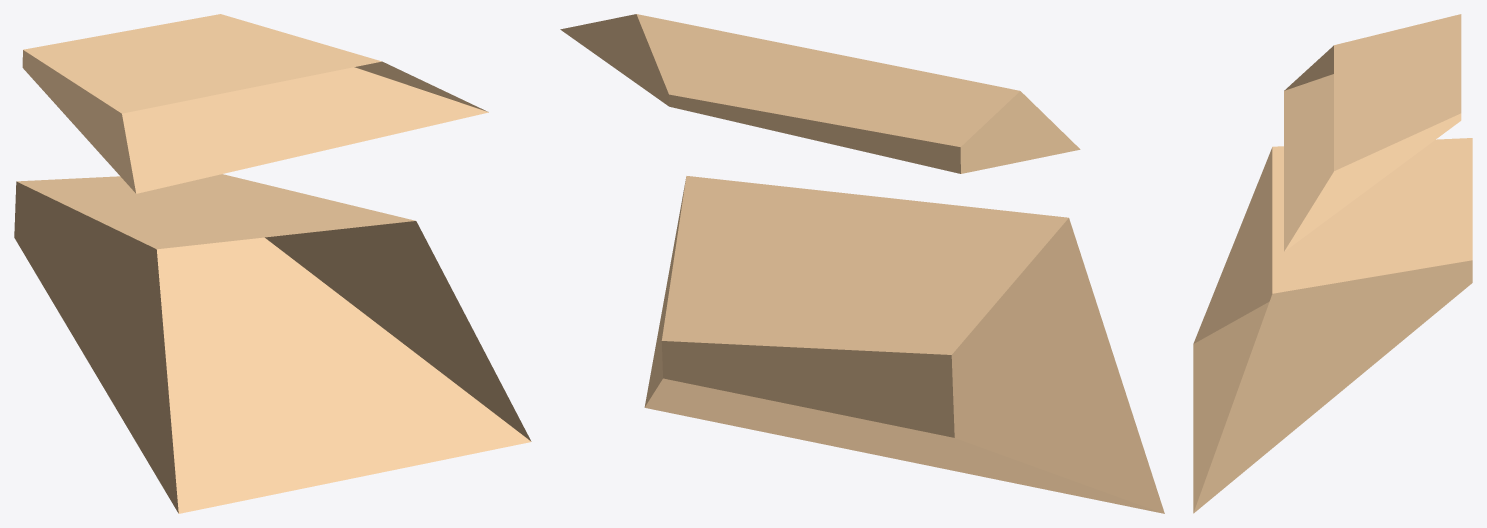
Rendered from AI_FX_WindowRay_02.fbx.
3 renders of one model, left to right at view 1: azimuth 30°, elevation 25°; view 2: azimuth 150°, elevation 25°; view 3: azimuth 270°, elevation 25°, orthographic. The views are drawn at different scales.
Parts seen in each view (by area): view 1: AI_FX_WindowRay_02; view 2: AI_FX_WindowRay_02; view 3: AI_FX_WindowRay_02.
Part boxes in pixels (x1,y1,x2,y2): AI_FX_WindowRay_02: [14, 14, 531, 513]; AI_FX_WindowRay_02: [560, 14, 1164, 513]; AI_FX_WindowRay_02: [1193, 14, 1472, 513].
Bounding box in the file's own units: 3.37 × 3.23 × 2.41.
